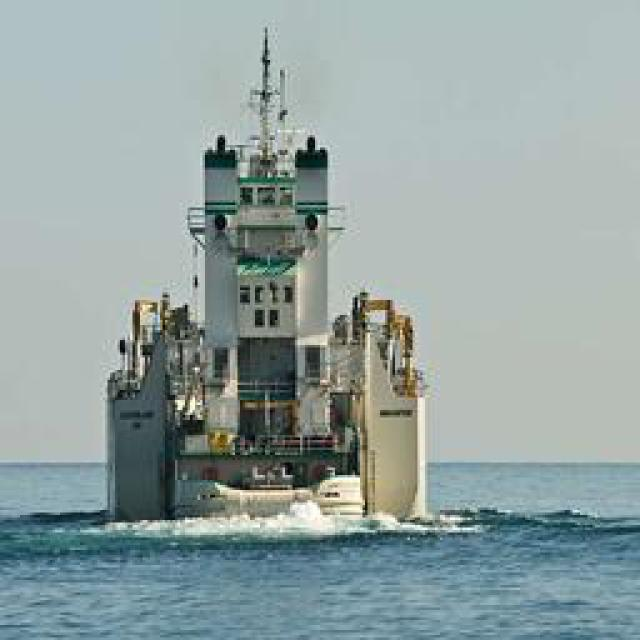Ship: (131, 10, 411, 540)
